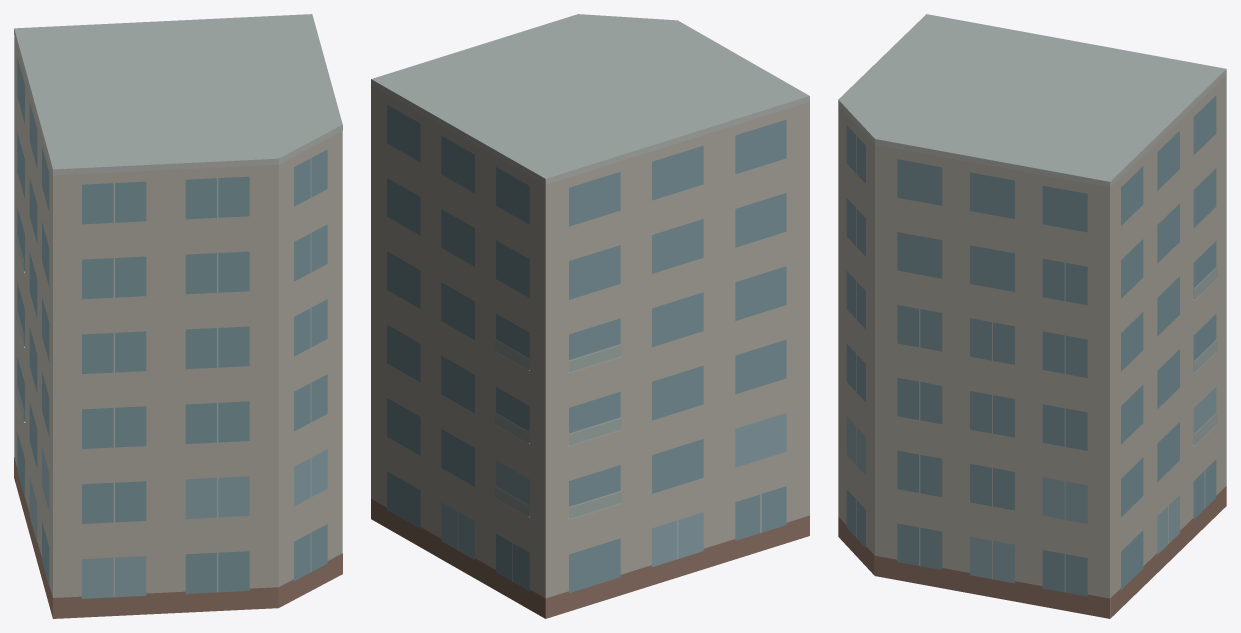
Rendered from survey-upis-32888597.glb.
3 renders of one model, left to right at view 1: azimuth 30°, elevation 25°; view 2: azimuth 150°, elevation 25°; view 3: azimuth 270°, elevation 25°, orthographic. The views are drawn at different scales.
Visible parts, largest first — view 1: survey-upis-32888597.tmp; view 2: survey-upis-32888597.tmp; view 3: survey-upis-32888597.tmp.
Boxes of the visible parts, bbox=[...] form: survey-upis-32888597.tmp: bbox=[14, 14, 342, 618]; survey-upis-32888597.tmp: bbox=[371, 14, 809, 618]; survey-upis-32888597.tmp: bbox=[838, 14, 1226, 618].
Bounding box in the file's own units: 15.08 × 18.3 × 14.75.
